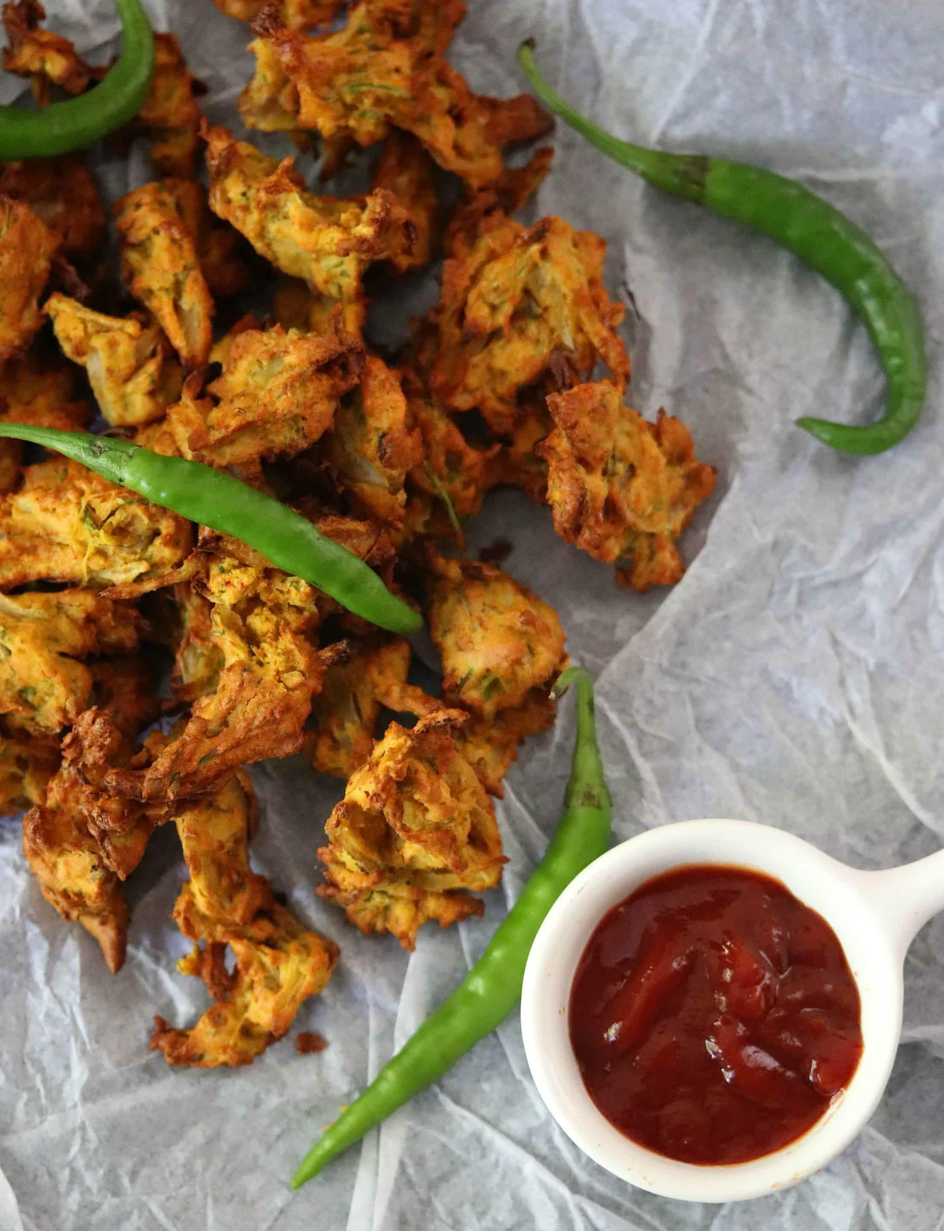OnionPakoda: (0, 0, 717, 1075)
